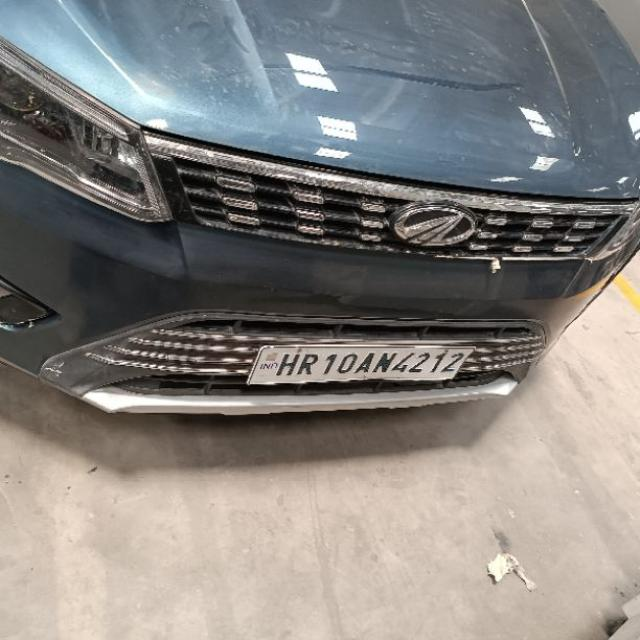license_plate: (39, 308, 547, 415), (245, 342, 474, 386)
